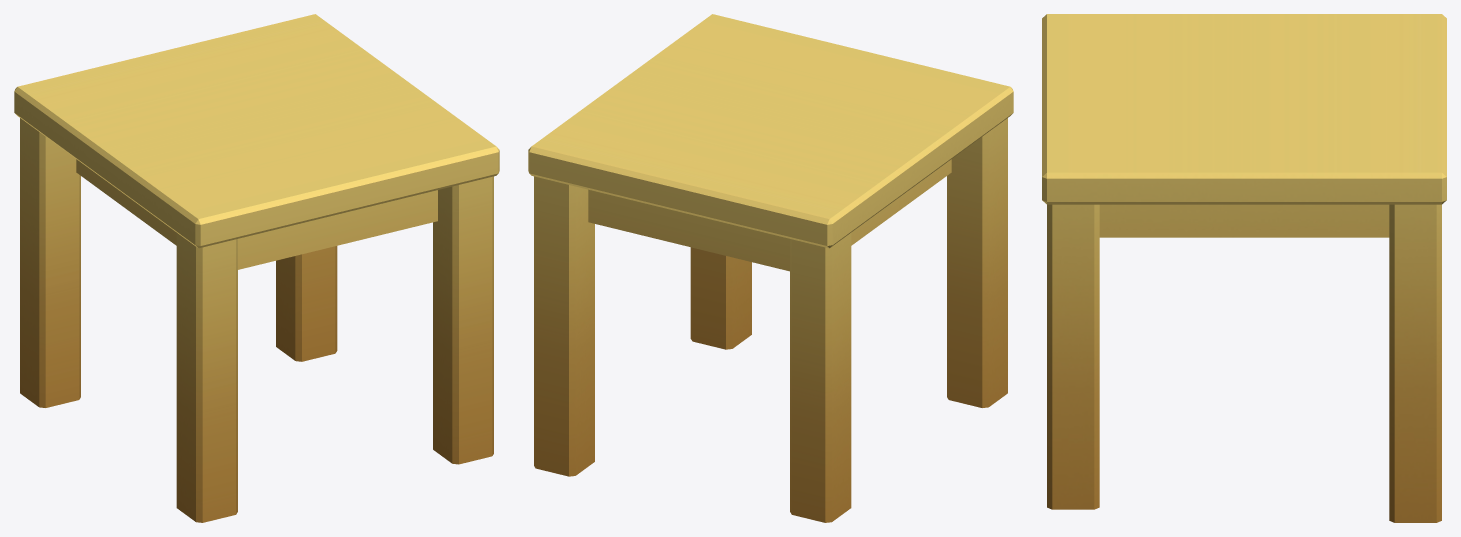
Rendered from squaresidetable.fbx.
3 renders of one model, left to right at view 1: azimuth 30°, elevation 25°; view 2: azimuth 150°, elevation 25°; view 3: azimuth 270°, elevation 25°, orthographic. The views are drawn at different scales.
Parts seen in each view (by area): view 1: squaresidetable; view 2: squaresidetable; view 3: squaresidetable.
Boxes of the visible parts, x1,y1,x2,y2 form: squaresidetable: (14, 14, 499, 522); squaresidetable: (528, 14, 1013, 522); squaresidetable: (1042, 14, 1446, 522).
Size of the model in its own units: 1.69 by 1.7 by 1.79.
